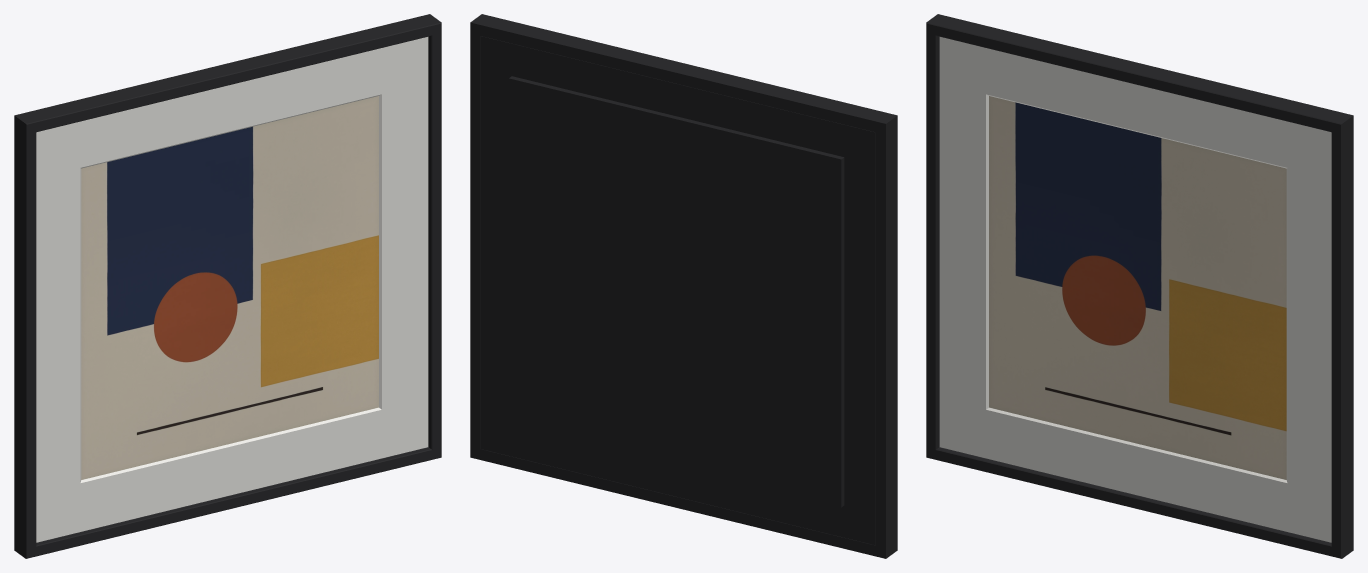
Rendered from art_geometric_a.gltf.
The picture shows the model from 3 angles, left to right: view 1: azimuth 30°, elevation 25°; view 2: azimuth 150°, elevation 25°; view 3: azimuth 330°, elevation 25°; orthographic projection.
Parts seen in each view (by area): view 1: Art_GeometricA_Art, Art_GeometricA_Mat, Art_GeometricA_Frame; view 2: Art_GeometricA_Spacer, Art_GeometricA_Backing, Art_GeometricA_Frame; view 3: Art_GeometricA_Art, Art_GeometricA_Mat, Art_GeometricA_Frame.
Boxes of the visible parts, bbox=[...] form: Art_GeometricA_Art: bbox=[81, 96, 378, 479]; Art_GeometricA_Mat: bbox=[36, 37, 428, 542]; Art_GeometricA_Frame: bbox=[14, 14, 441, 558]; Art_GeometricA_Spacer: bbox=[509, 76, 844, 507]; Art_GeometricA_Backing: bbox=[481, 36, 875, 545]; Art_GeometricA_Frame: bbox=[470, 14, 897, 558]; Art_GeometricA_Art: bbox=[989, 96, 1286, 479]; Art_GeometricA_Mat: bbox=[939, 37, 1331, 542]; Art_GeometricA_Frame: bbox=[926, 14, 1353, 558].
Bounding box in the file's own units: 0.8 × 0.8 × 0.05.
Materials: 4 (1 with a texture image).
